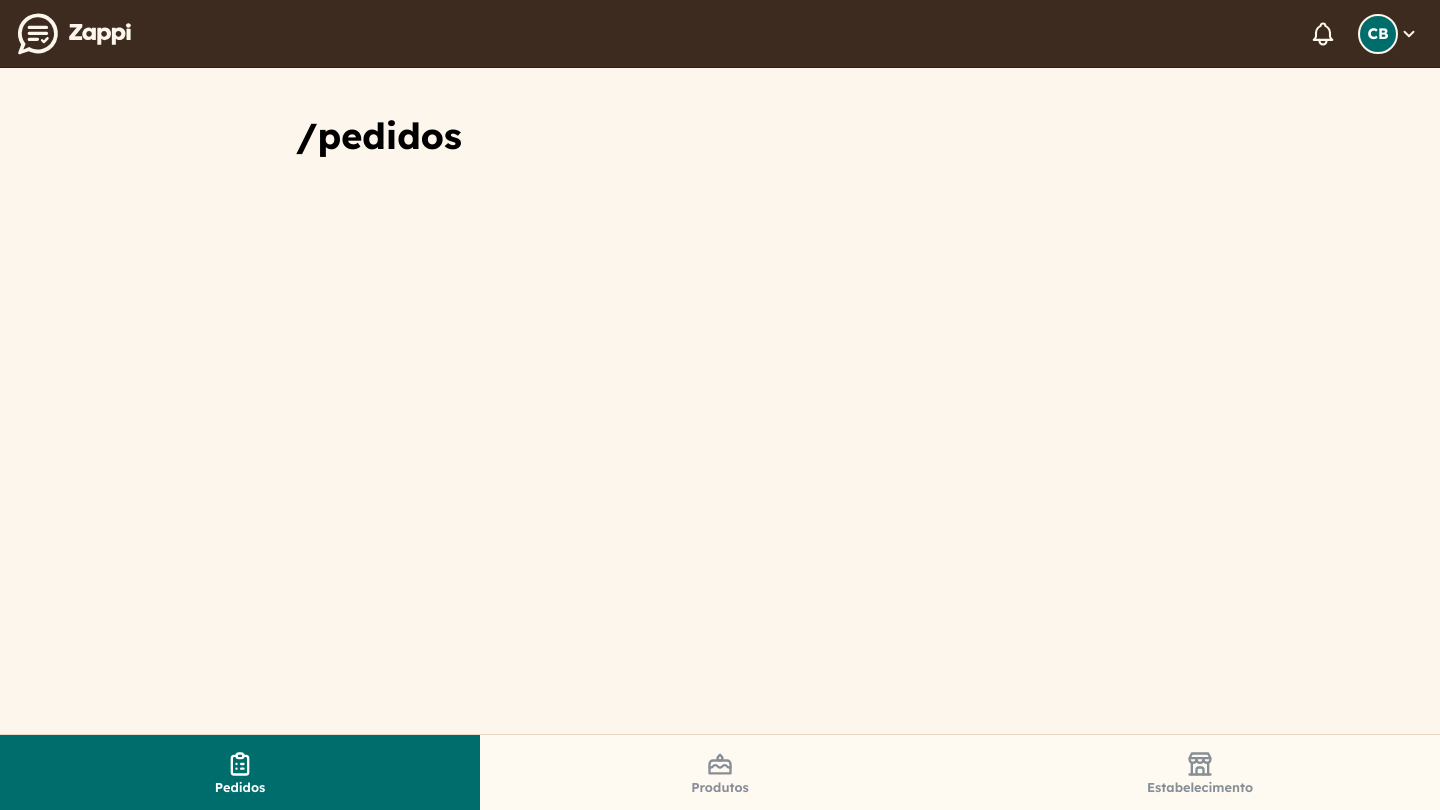
Test case: topo com só a marca do Zappi e o logo da loja na conta (ZAP-178) › o menu da conta mostra o logo, o nome da usuária e o da loja, e depois o Sair
The image size is (1440, 810).
Check: the text "CB" is shown, box [1358, 14, 1398, 54]
Click the button with aria-label "Minha conta" at (1388, 34), box [1352, 10, 1424, 58]
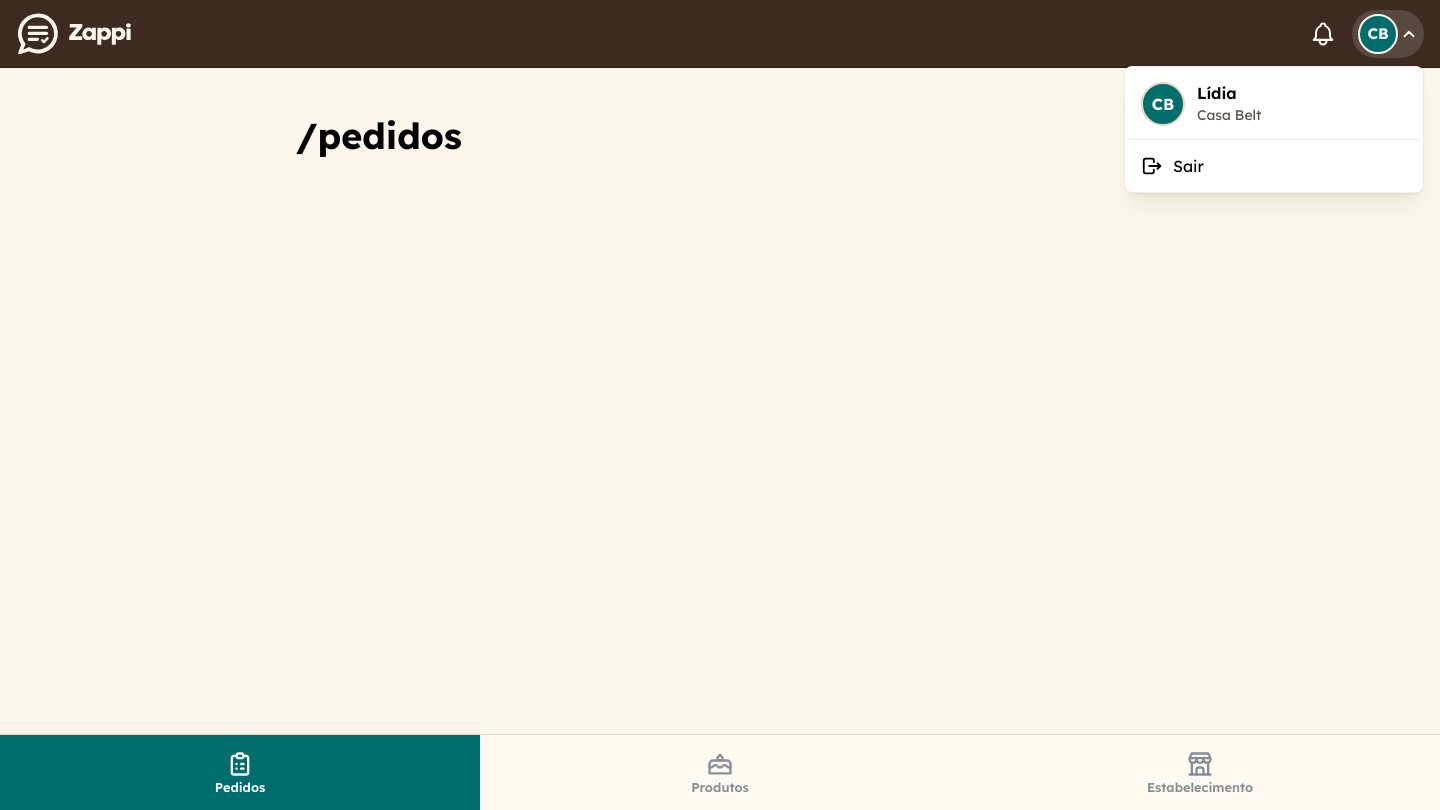
Check: the text "Lídia" is shown, box [1197, 82, 1237, 102]
Check: the text "Casa Belt" is shown, box [1197, 105, 1261, 127]
Check: the text "CB" next to "Lídia" is shown, box [1152, 94, 1174, 114]
